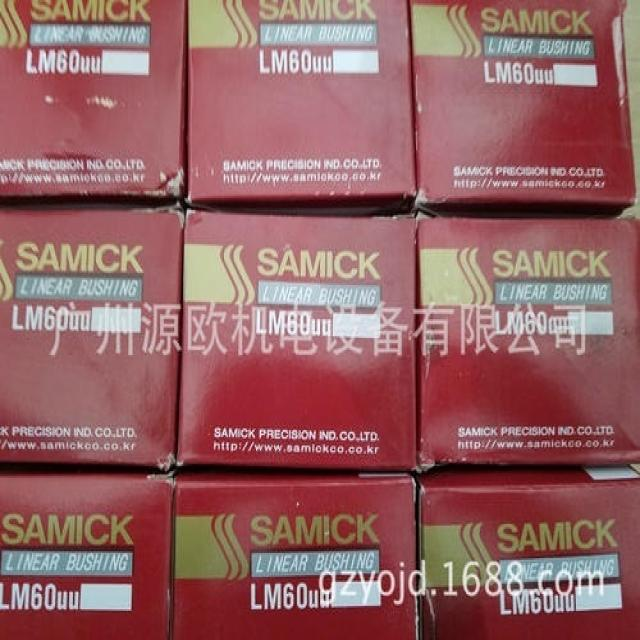box: (176, 209, 421, 472), (417, 213, 639, 473), (184, 0, 418, 217), (0, 204, 185, 472), (409, 0, 636, 218), (170, 464, 419, 638), (413, 464, 639, 638), (0, 0, 187, 204), (0, 463, 180, 638)
